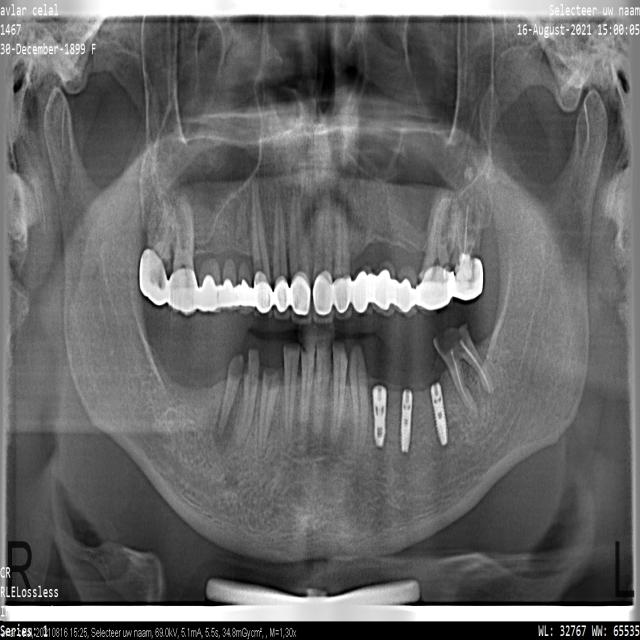Canine: (251, 177, 272, 318), (353, 193, 373, 314), (349, 345, 368, 454), (258, 369, 281, 459)
Incisores: (312, 181, 334, 322), (290, 186, 312, 324), (334, 177, 352, 320), (274, 179, 290, 319), (314, 341, 331, 439), (331, 340, 347, 443), (284, 344, 300, 445), (300, 346, 315, 450)
Premolars: (372, 199, 396, 314), (235, 349, 259, 449), (218, 355, 244, 438), (237, 200, 254, 314), (221, 209, 237, 309), (372, 386, 387, 446), (401, 388, 412, 452)
molars: (433, 323, 494, 420), (418, 198, 459, 312), (389, 213, 421, 317), (169, 197, 197, 315), (452, 205, 484, 298), (145, 200, 173, 298), (198, 219, 221, 312), (431, 384, 447, 444)
